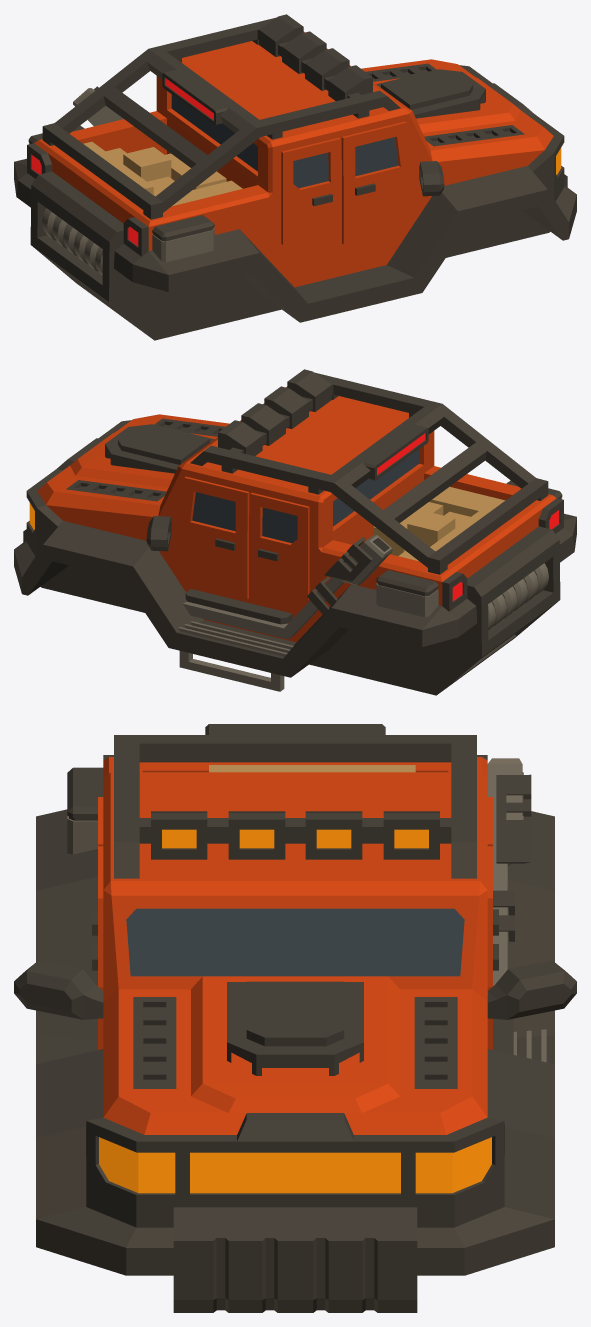
File: chassis.glb
3 renders of one model, top to bottom at view 1: azimuth 30°, elevation 25°; view 2: azimuth 150°, elevation 25°; view 3: azimuth 270°, elevation 25°, orthographic. The views are drawn at different scales.
Visible parts, largest first — view 1: Plane.001, Cube.011, Cube.017, Plane.003, Cube.033, Cube.100; view 2: Plane.001, Cube.011, Plane.003, Cube.033, Cube.017, Cube.100; view 3: Plane.001, Cube.011, Cube.017, Cube.099, Plane.003, Cube.033.
Part boxes in pixels (left/top/right/bottom): Plane.001: left=14, top=14, right=576, bottom=340; Cube.011: left=34, top=31, right=553, bottom=287; Cube.017: left=171, top=94, right=398, bottom=188; Plane.003: left=29, top=88, right=214, bottom=275; Cube.033: left=83, top=141, right=242, bottom=206; Cube.100: left=31, top=78, right=213, bottom=246; Plane.001: left=14, top=369, right=576, bottom=695; Cube.011: left=37, top=386, right=556, bottom=642; Plane.003: left=178, top=498, right=561, bottom=691; Cube.033: left=373, top=486, right=505, bottom=561; Cube.017: left=192, top=449, right=419, bottom=543; Cube.100: left=377, top=433, right=559, bottom=601; Plane.001: left=14, top=724, right=576, bottom=1312; Cube.011: left=98, top=757, right=492, bottom=1134; Cube.017: left=126, top=908, right=464, bottom=976; Cube.099: left=99, top=829, right=491, bottom=1193; Plane.003: left=67, top=758, right=546, bottom=1062; Cube.033: left=209, top=765, right=415, bottom=772.
Size of the model in its own units: 2.99 by 1.32 by 1.89.
